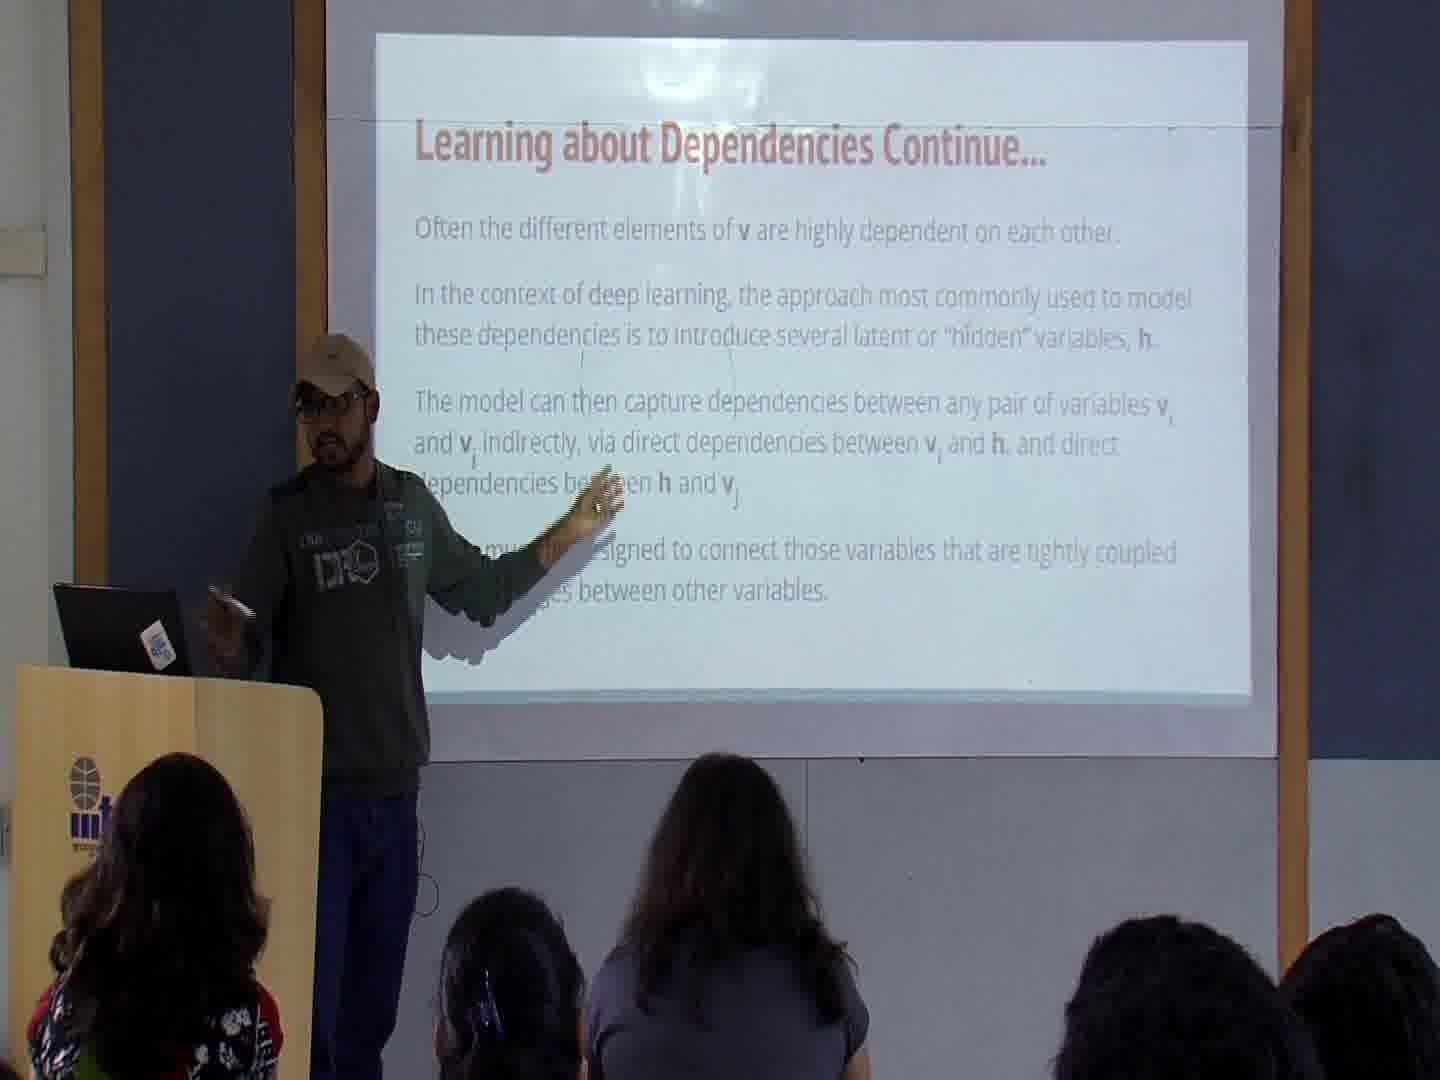slide: (376, 34, 1251, 709)
